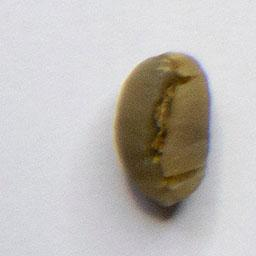peaberry: (111, 44, 215, 212)
